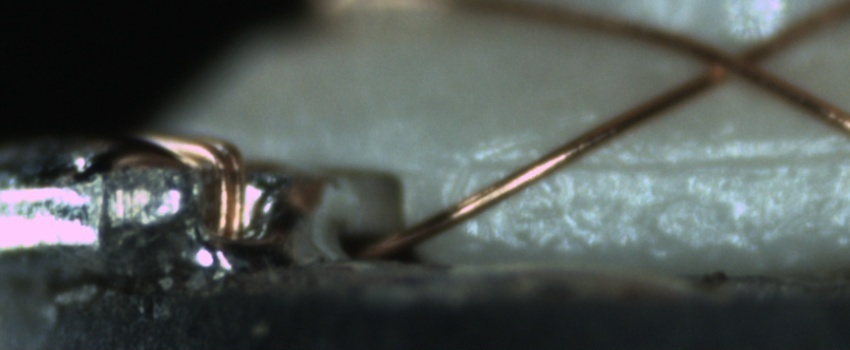CL: (690, 31, 780, 91)
DL: (460, 132, 849, 194)
TE: (135, 127, 256, 244)
